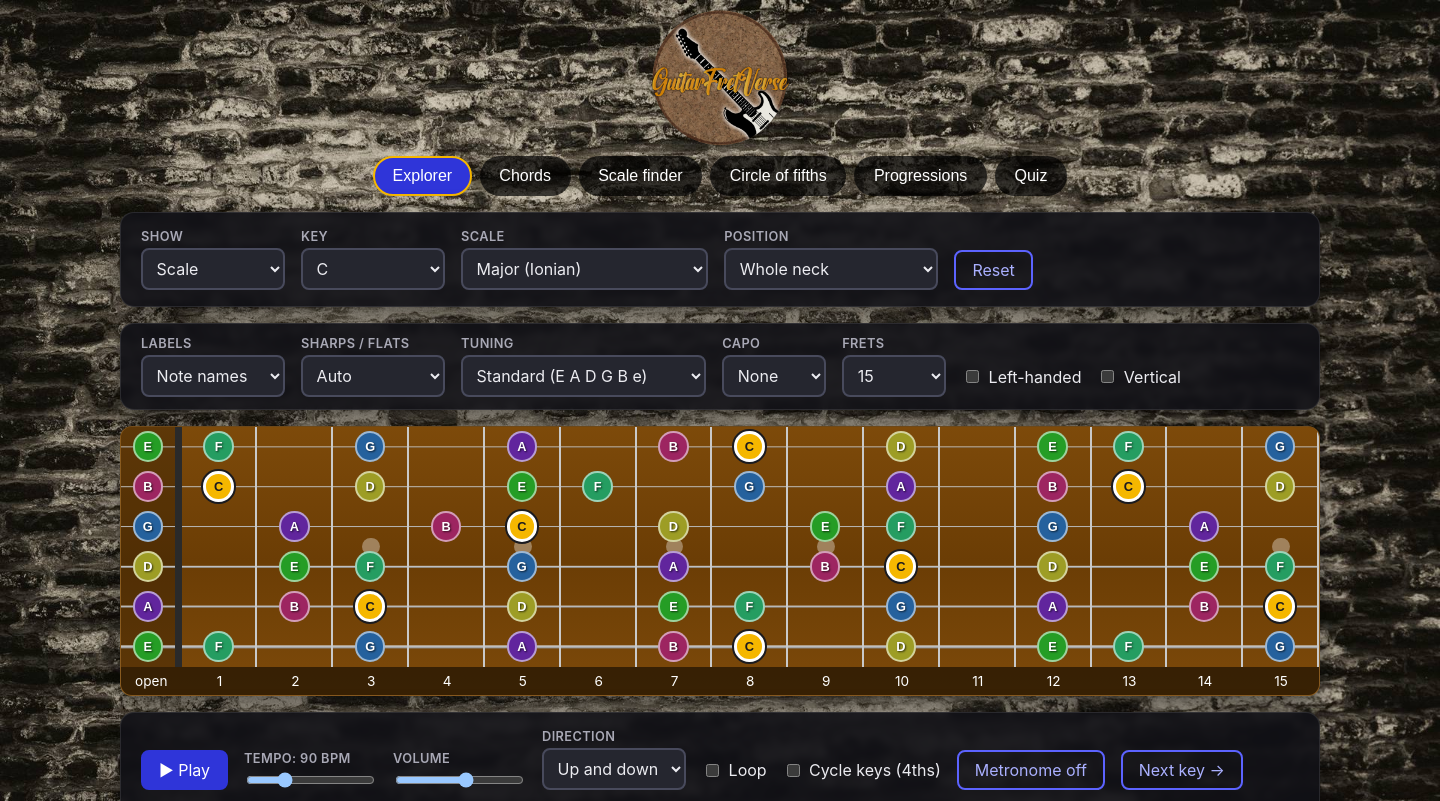
it: progressions are worked out in the chosen key
Click the tab "Progressions": click(921, 176) [854, 156, 987, 196]
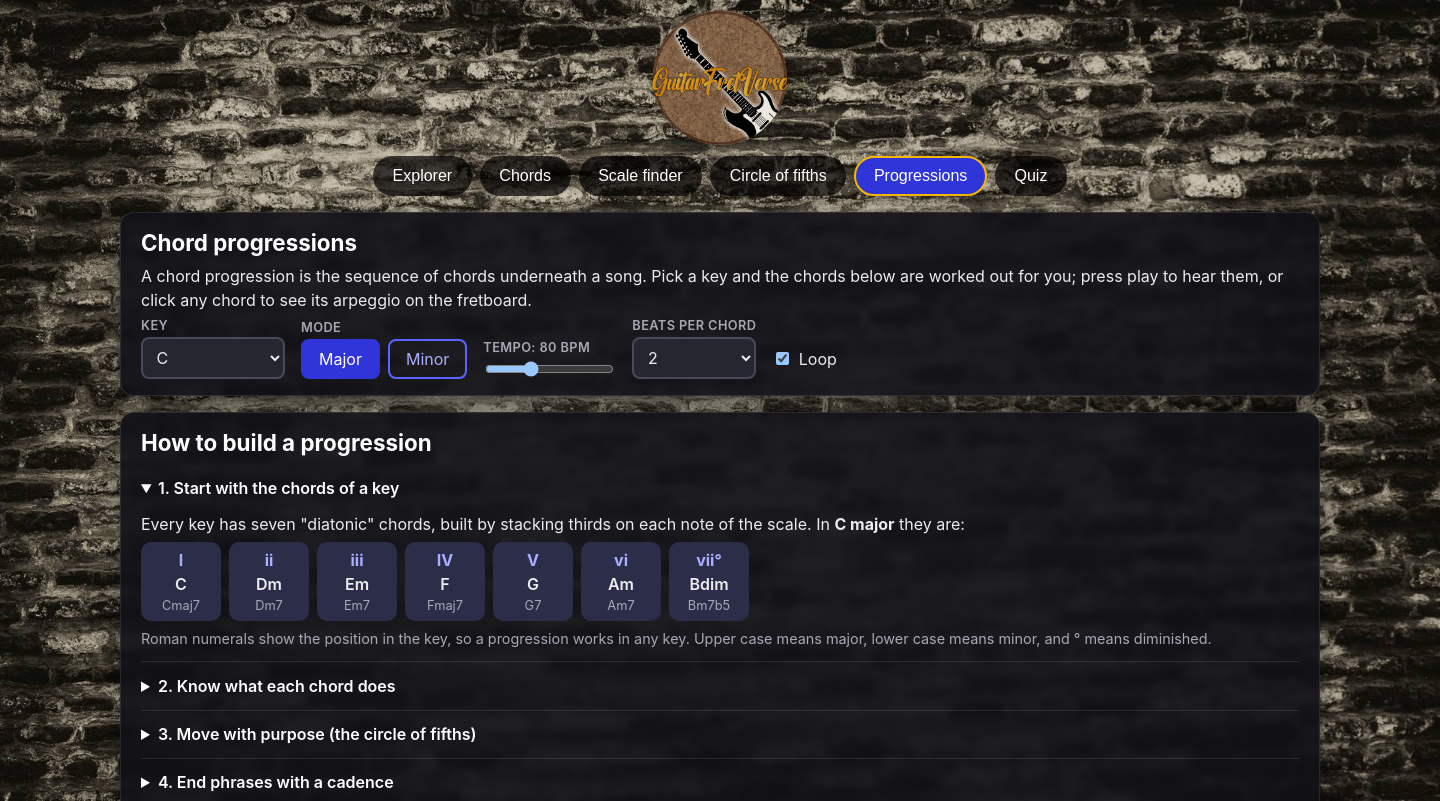
Select "G" in the dropdown labelled "Key": (213, 358) [141, 337, 285, 379]
(page scrolled)
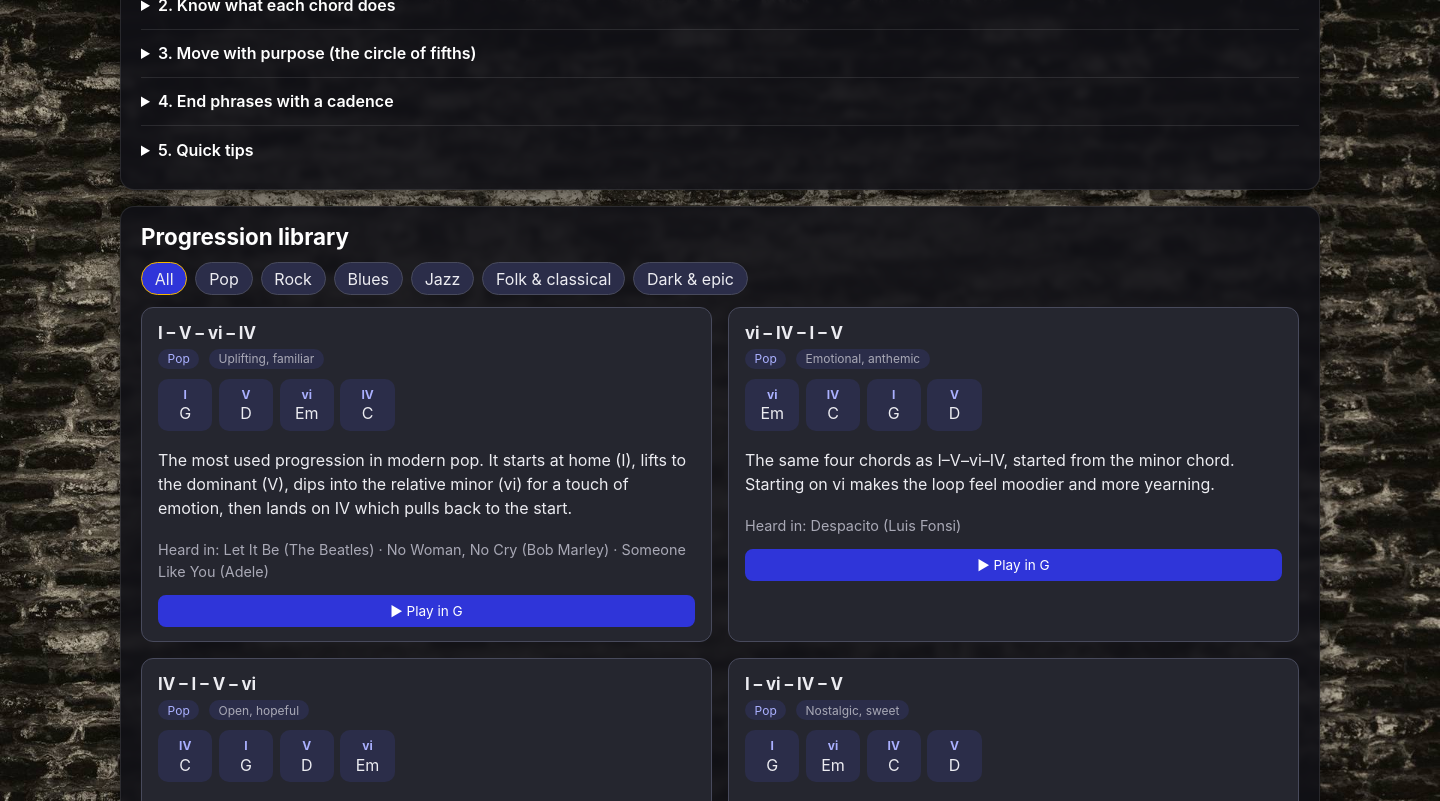
expect the button "I G" below "Uplifting, familiar" is shown: met, box [158, 379, 212, 431]
expect the button "vi Em" below "Uplifting, familiar" is shown: met, box [280, 379, 334, 431]
